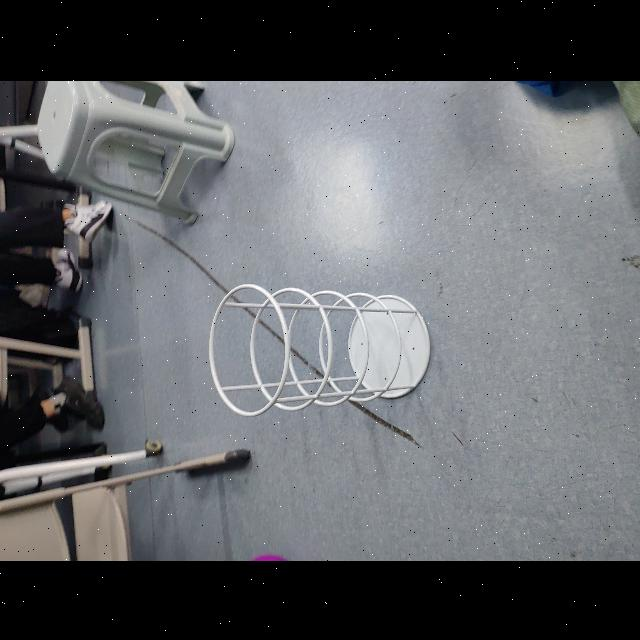S: (208, 284, 432, 416)
